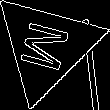M_E: (16, 18, 77, 75)
